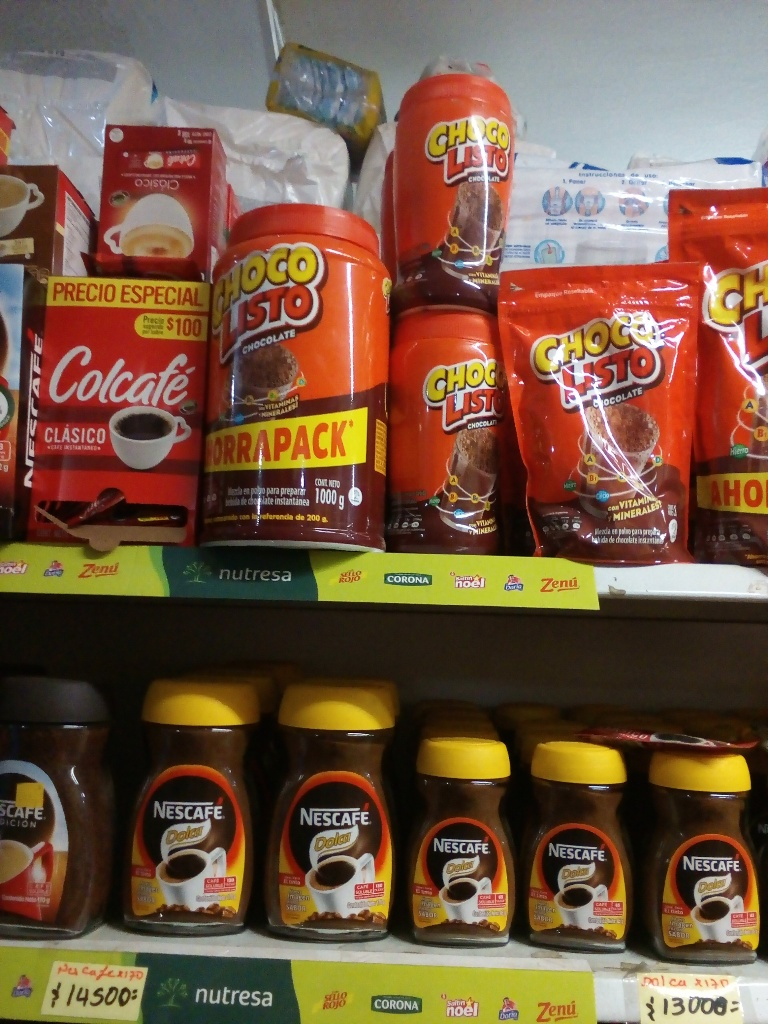COL0170103DYP44000: (667, 186, 768, 565)
COL0170103TRR00100: (202, 207, 387, 547)
